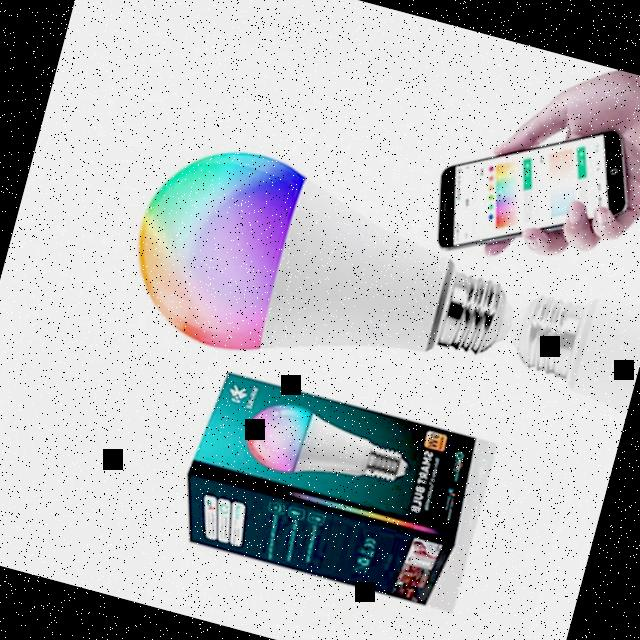light_bulb: (96, 107, 546, 428)
